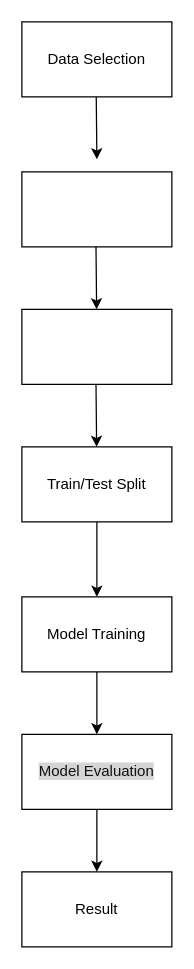
This 194x969 diagram has some shape labels left out. Each missing label, with the box of its shape:
Data loading: (21, 171, 172, 247)
Data Preprocessing: (21, 308, 172, 384)
